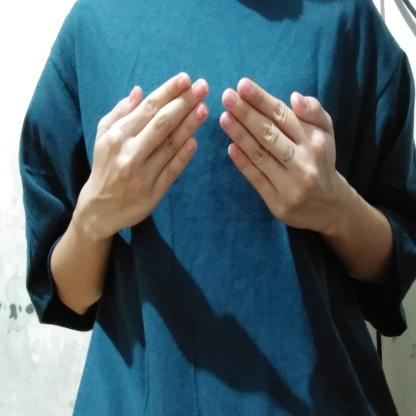night: (75, 68, 367, 245)
